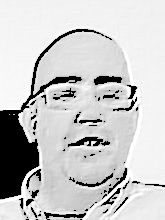nose_M_C: (73, 95, 108, 134)
